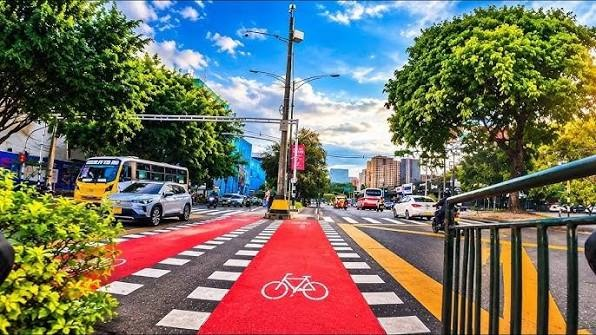car: (76, 159, 188, 221), (72, 157, 187, 201), (69, 156, 181, 199), (109, 181, 189, 225), (110, 182, 189, 225), (395, 200, 435, 220)
